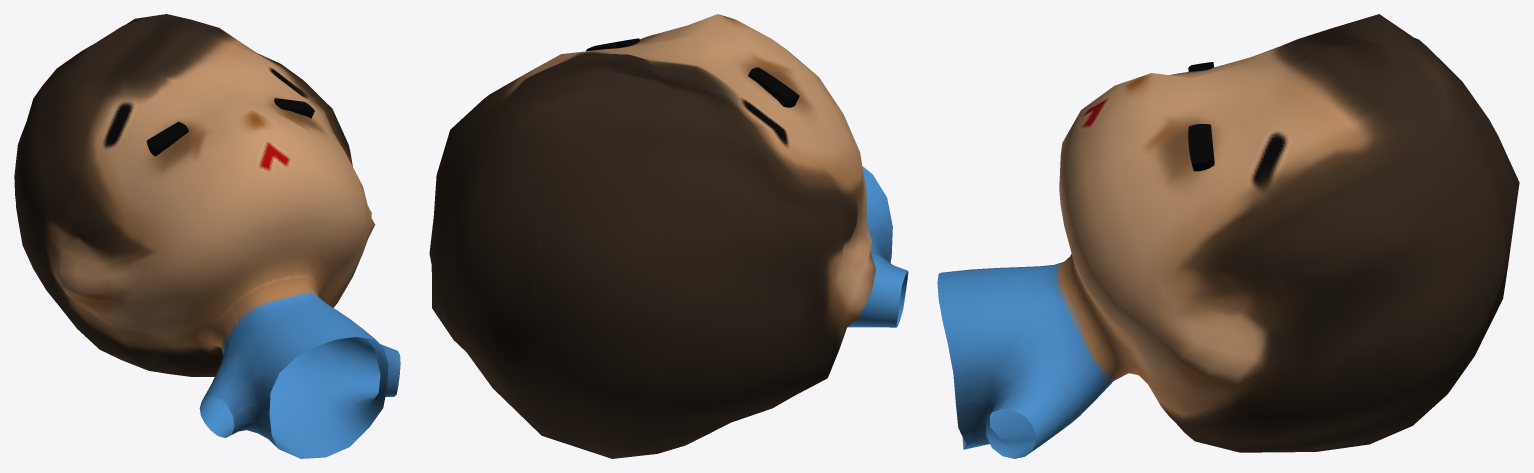
File: Kid_JustHead.fbx
3 renders of one model, left to right at view 1: azimuth 30°, elevation 25°; view 2: azimuth 150°, elevation 25°; view 3: azimuth 270°, elevation 25°, orthographic. The views are drawn at different scales.
Visible parts, largest first — view 1: Kid, KidEyes:KidEyes; view 2: Kid, KidEyes:KidEyes; view 3: Kid, KidEyes:KidEyes.
Boxes of the visible parts, box(x1,y1,x2,y2) form: Kid: box(14, 14, 400, 458); KidEyes:KidEyes: box(146, 98, 314, 156); Kid: box(429, 14, 908, 458); KidEyes:KidEyes: box(586, 38, 799, 107); Kid: box(937, 14, 1519, 458); KidEyes:KidEyes: box(1188, 62, 1214, 171).
Size of the model in its own units: 239 by 241 by 317.
1 material, 1 textured.
